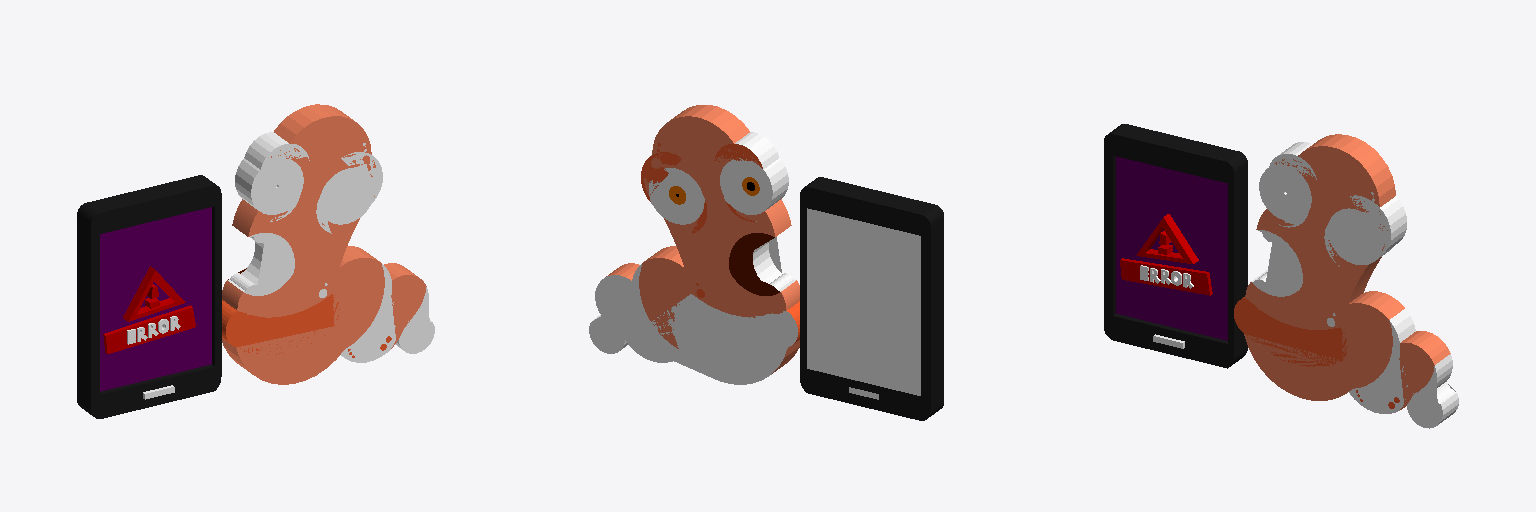
File: worms.obj
The picture shows the model from 3 angles: view 1: azimuth 30°, elevation 25°; view 2: azimuth 150°, elevation 25°; view 3: azimuth 330°, elevation 25°; orthographic projection.
Parts seen in each view (by area): view 1: Mesh6 Model, Mesh5 Model, Mesh1 Model, Mesh4 Model; view 2: Mesh6 Model, Mesh5 Model; view 3: Mesh6 Model, Mesh5 Model, Mesh1 Model, Mesh4 Model.
Boxes of the visible parts, x1,y1,x2,y2 form: Mesh6 Model: [222, 104, 434, 384]; Mesh5 Model: [77, 175, 221, 418]; Mesh1 Model: [103, 305, 195, 353]; Mesh4 Model: [123, 266, 185, 321]; Mesh6 Model: [589, 105, 799, 384]; Mesh5 Model: [800, 177, 943, 420]; Mesh6 Model: [1234, 134, 1458, 428]; Mesh5 Model: [1104, 124, 1247, 368]; Mesh1 Model: [1120, 258, 1212, 295]; Mesh4 Model: [1136, 214, 1198, 263].
Bounding box in the file's own units: 2.32 × 1.68 × 0.192.